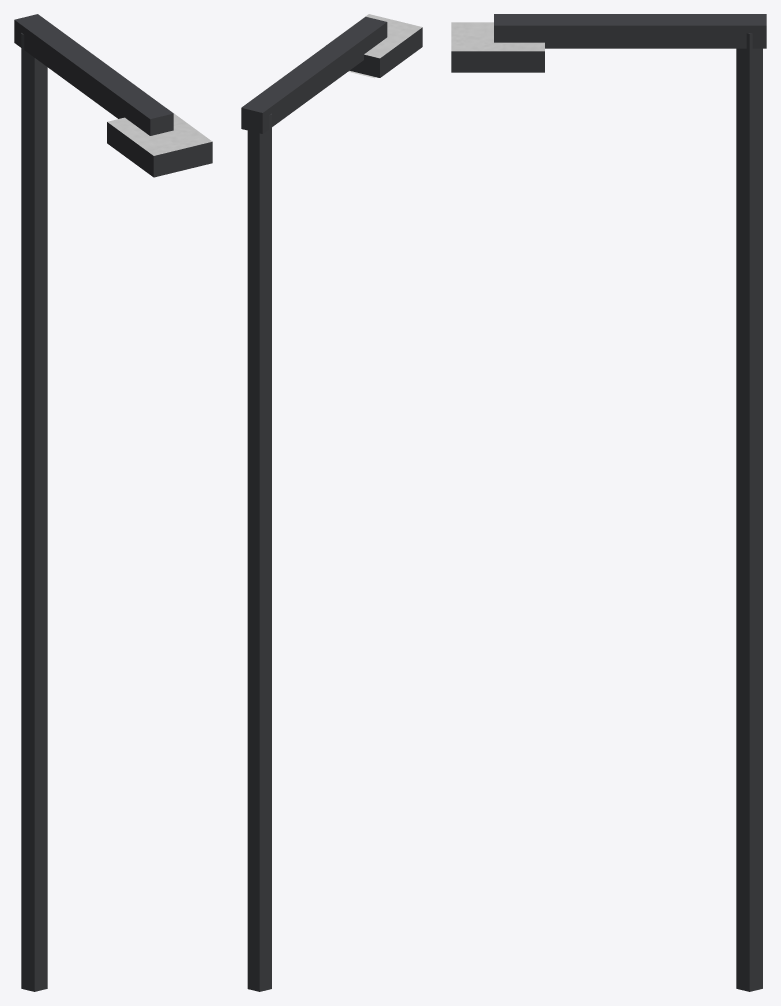
The model's file is c_lamp.glb.
3 views of the same model, side by side, from view 1: azimuth 30°, elevation 25°; view 2: azimuth 150°, elevation 25°; view 3: azimuth 270°, elevation 25° (orthographic). The views are drawn at different scales.
Visible parts, largest first — view 1: Lamp; view 2: Lamp; view 3: Lamp.
Part boxes in pixels (bbox=[...]): Lamp: bbox=[14, 14, 212, 991]; Lamp: bbox=[241, 14, 422, 991]; Lamp: bbox=[451, 14, 766, 991].
Bounding box in the file's own units: 0.4 × 6.25 × 1.85.
3 materials, 2 textured.
